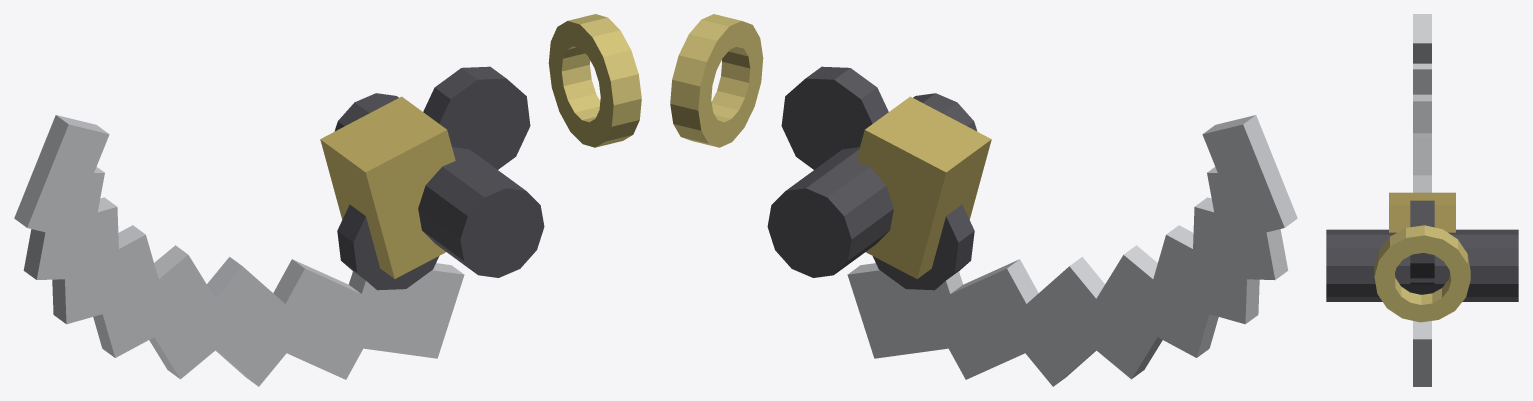
Rendered from gumus_karambit.glb.
The picture shows the model from 3 angles, left to right: view 1: azimuth 30°, elevation 25°; view 2: azimuth 150°, elevation 25°; view 3: azimuth 270°, elevation 25°; orthographic projection. The views are drawn at different scales.
Visible parts, largest first — view 1: geometry_0; view 2: geometry_0; view 3: geometry_0.
Part boxes in pixels (left/top/right/bottom): geometry_0: left=14, top=14, right=641, bottom=386; geometry_0: left=670, top=14, right=1297, bottom=386; geometry_0: left=1326, top=14, right=1518, bottom=386.
Size of the model in its own units: 0.2092 by 0.1101 by 0.08.
